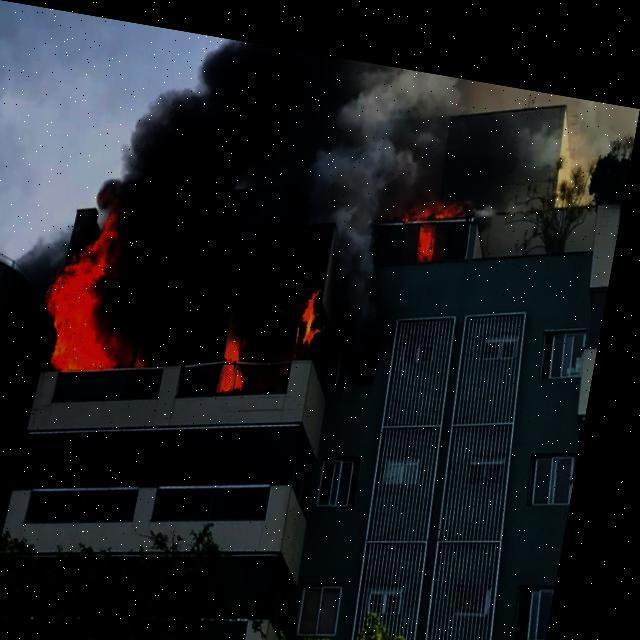Fire: (38, 217, 164, 370), (409, 187, 468, 247), (306, 277, 342, 334), (235, 326, 264, 378)
